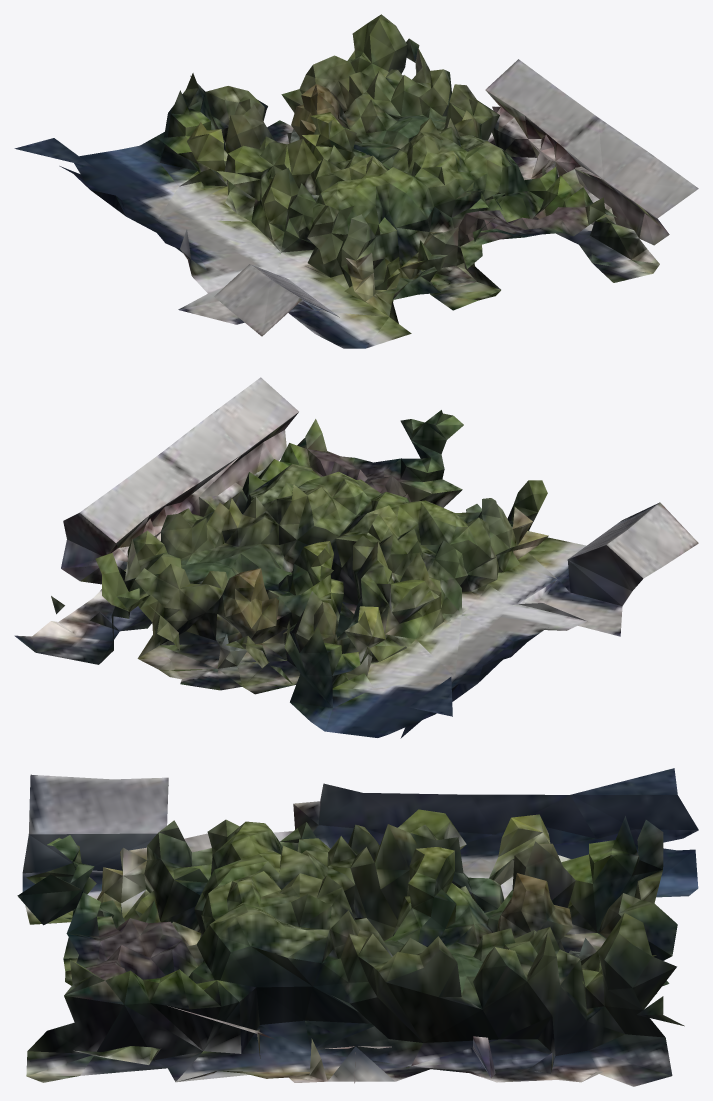
File: Tile_+004_+004_L17_00.glb
3 renders of one model, top to bottom at view 1: azimuth 30°, elevation 25°; view 2: azimuth 150°, elevation 25°; view 3: azimuth 270°, elevation 25°, orthographic. The views are drawn at different scales.
Size of the model in its own units: 60.71 by 14.3 by 60.87.
1 material, 1 textured.
